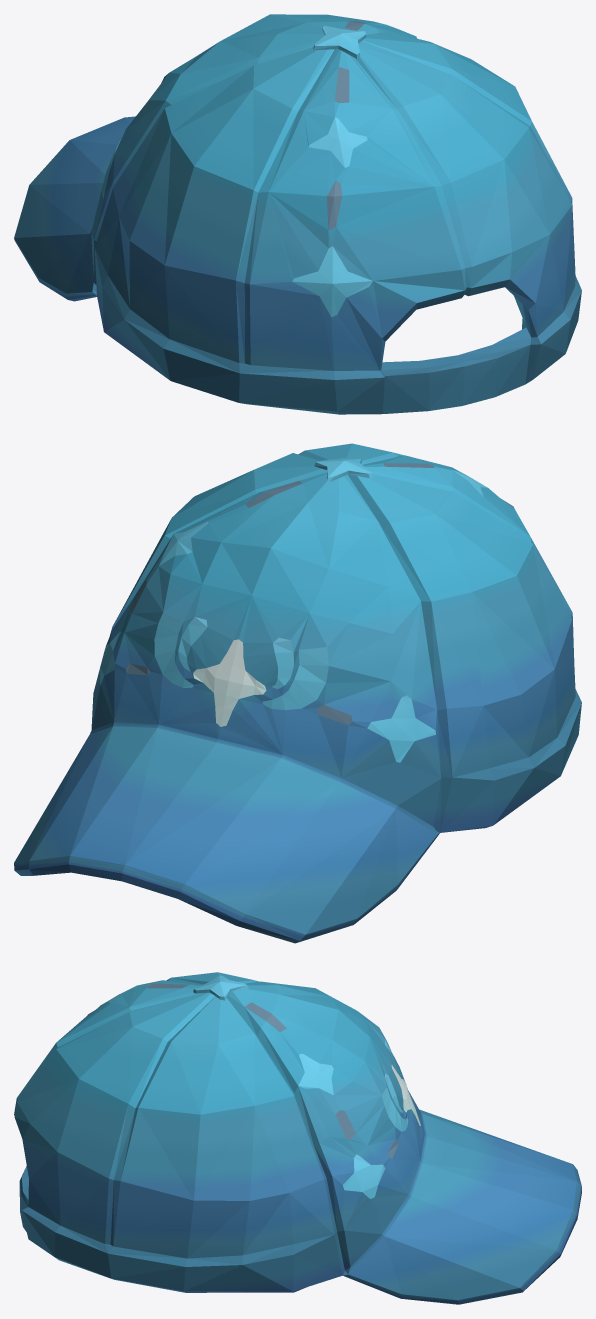
Rendered from CharSkyKid_Hat_BirthdayHat_07.glb.
3 views of the same model, one above another, from view 1: azimuth 30°, elevation 25°; view 2: azimuth 150°, elevation 25°; view 3: azimuth 270°, elevation 25° (orthographic). The views are drawn at different scales.
Visible parts, largest first — view 1: CharSkyKid_Hat_BirthdayHat_07; view 2: CharSkyKid_Hat_BirthdayHat_07; view 3: CharSkyKid_Hat_BirthdayHat_07.
Boxes of the visible parts, x1,y1,x2,y2 form: CharSkyKid_Hat_BirthdayHat_07: (14,14,581,414); CharSkyKid_Hat_BirthdayHat_07: (14,443,581,943); CharSkyKid_Hat_BirthdayHat_07: (14,972,581,1304).
Bounding box in the file's own units: 3.19 × 2.39 × 4.69.
Materials: 1 (1 with a texture image).
